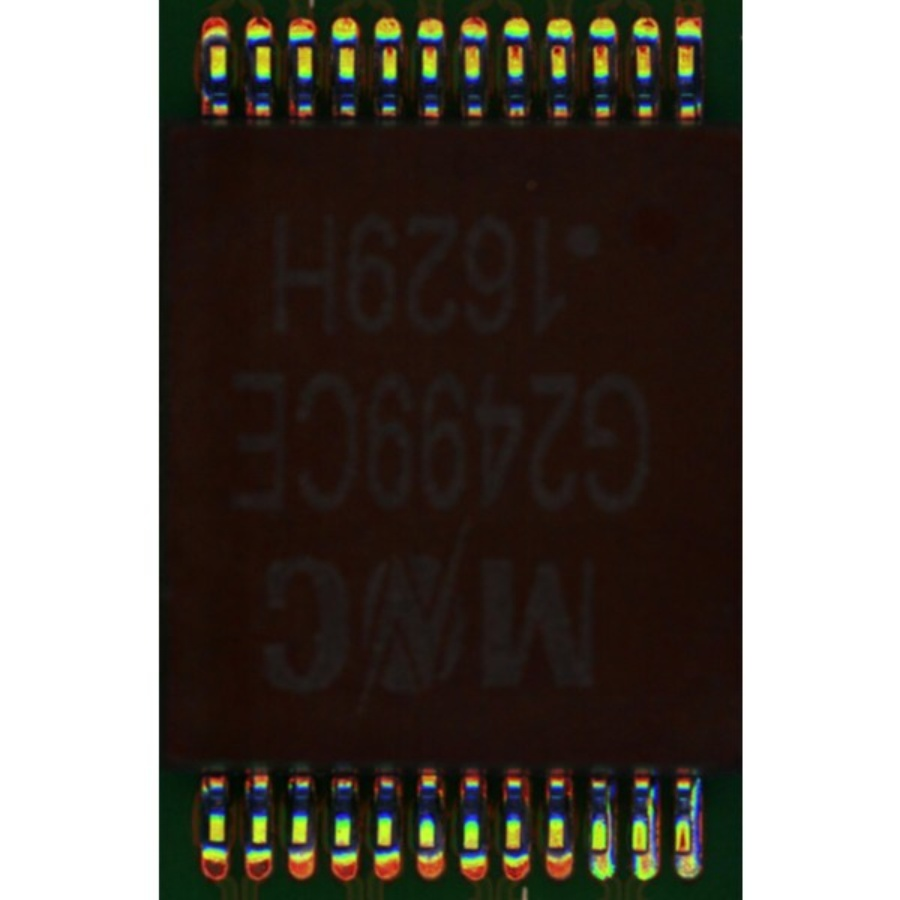Bad_podu: (592, 843, 606, 863), (633, 844, 647, 862), (677, 845, 690, 861)
Bad_qiaojiao: (690, 776, 700, 851), (647, 786, 656, 850), (606, 788, 613, 850)
